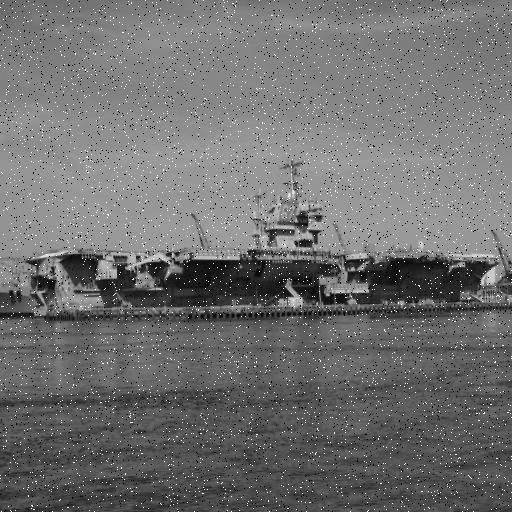Portanaves: (30, 150, 501, 325)
